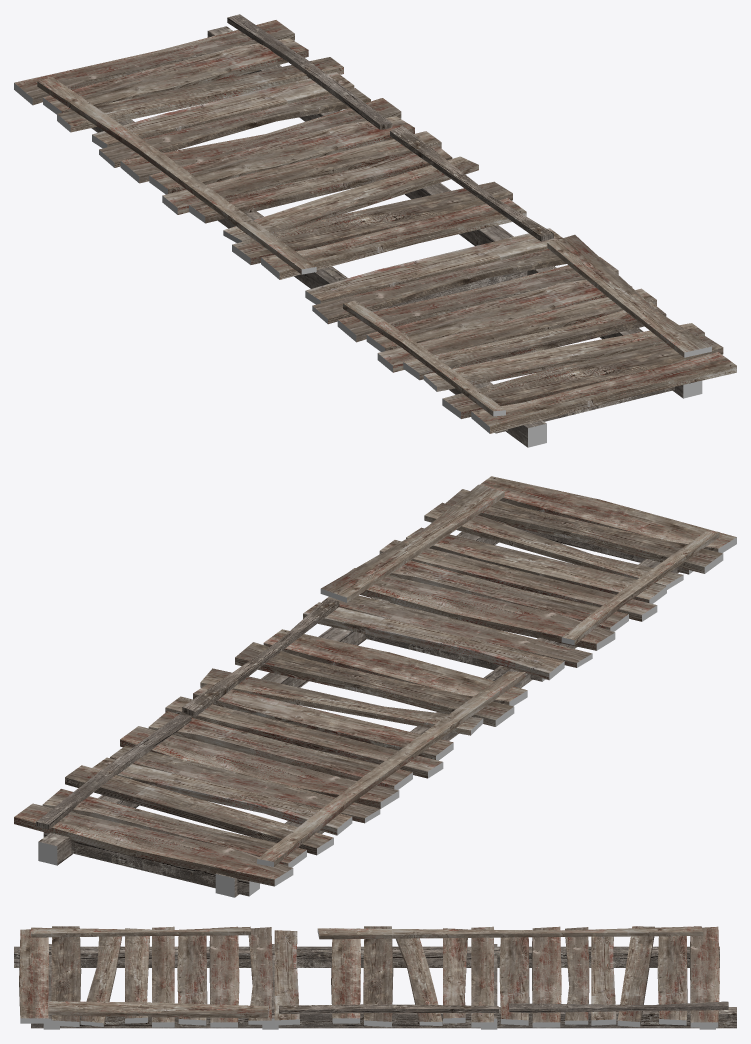
Rendered from Platform1.fbx.
3 renders of one model, top to bottom at view 1: azimuth 30°, elevation 25°; view 2: azimuth 150°, elevation 25°; view 3: azimuth 270°, elevation 25°, orthographic. The views are drawn at different scales.
Parts seen in each view (by area): view 1: polySurface1234; view 2: polySurface1234; view 3: polySurface1234.
Part boxes in pixels (x1,y1,x2,y2): polySurface1234: (14,14,736,447); polySurface1234: (14,476,736,897); polySurface1234: (14,926,736,1029).
Bounding box in the file's own units: 2.88 × 0.3569 × 9.11.
